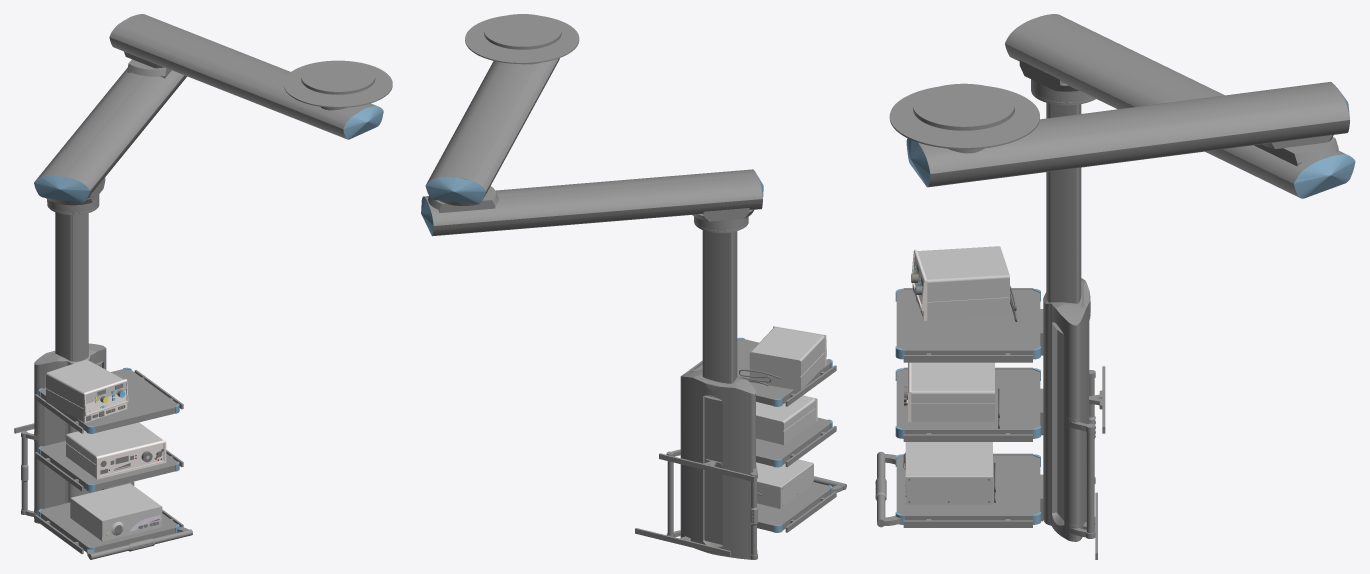
File: ceiling_pendant.fbx
3 renders of one model, left to right at view 1: azimuth 30°, elevation 25°; view 2: azimuth 150°, elevation 25°; view 3: azimuth 270°, elevation 25°, orthographic. The views are drawn at different scales.
Parts seen in each view (by area): view 1: Maquet_Ceiling_Pendant_8557 Maquet_Ceiling_Pendant_8557_7653; view 2: Maquet_Ceiling_Pendant_8557 Maquet_Ceiling_Pendant_8557_7653; view 3: Maquet_Ceiling_Pendant_8557 Maquet_Ceiling_Pendant_8557_7653.
Boxes of the visible parts, box(x1,y1,x2,y2) form: Maquet_Ceiling_Pendant_8557 Maquet_Ceiling_Pendant_8557_7653: box(14, 14, 392, 559); Maquet_Ceiling_Pendant_8557 Maquet_Ceiling_Pendant_8557_7653: box(421, 14, 846, 559); Maquet_Ceiling_Pendant_8557 Maquet_Ceiling_Pendant_8557_7653: box(875, 14, 1355, 559).
Size of the model in its own units: 180 by 217 by 167.
